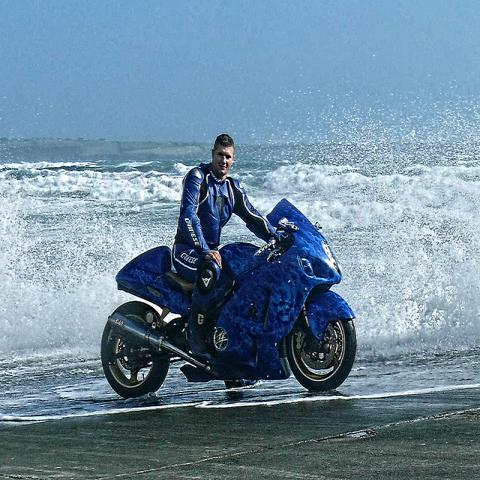motorcycle: (96, 196, 373, 399)
